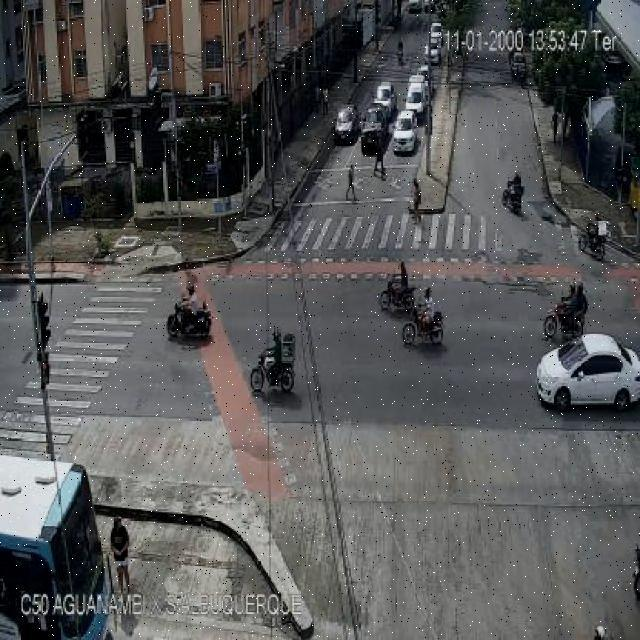Bus: (0, 452, 112, 636)
Car: (532, 330, 640, 414), (360, 106, 392, 154), (391, 112, 418, 154), (332, 105, 360, 144), (372, 83, 397, 117), (510, 52, 528, 81), (416, 64, 432, 91), (428, 21, 443, 47), (424, 47, 441, 66), (432, 0, 448, 15), (406, 0, 423, 14), (423, 0, 437, 13)
Cycle: (250, 346, 296, 393), (567, 216, 615, 260), (402, 302, 444, 346), (167, 298, 212, 339), (543, 296, 586, 338), (378, 278, 416, 314), (502, 182, 524, 215)
Van: (404, 78, 429, 118)
